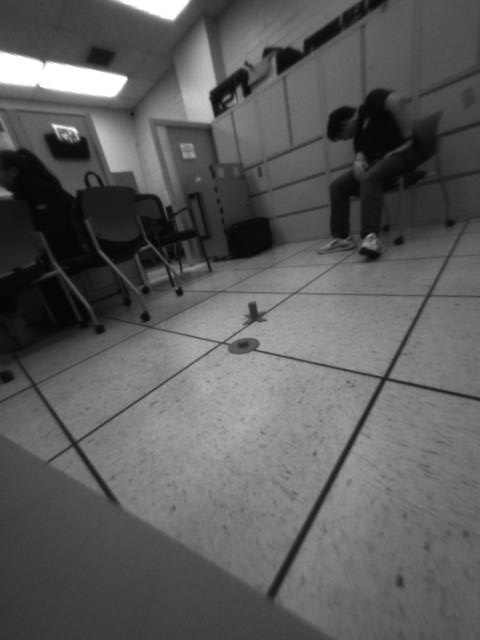X: (243, 298, 267, 328)
